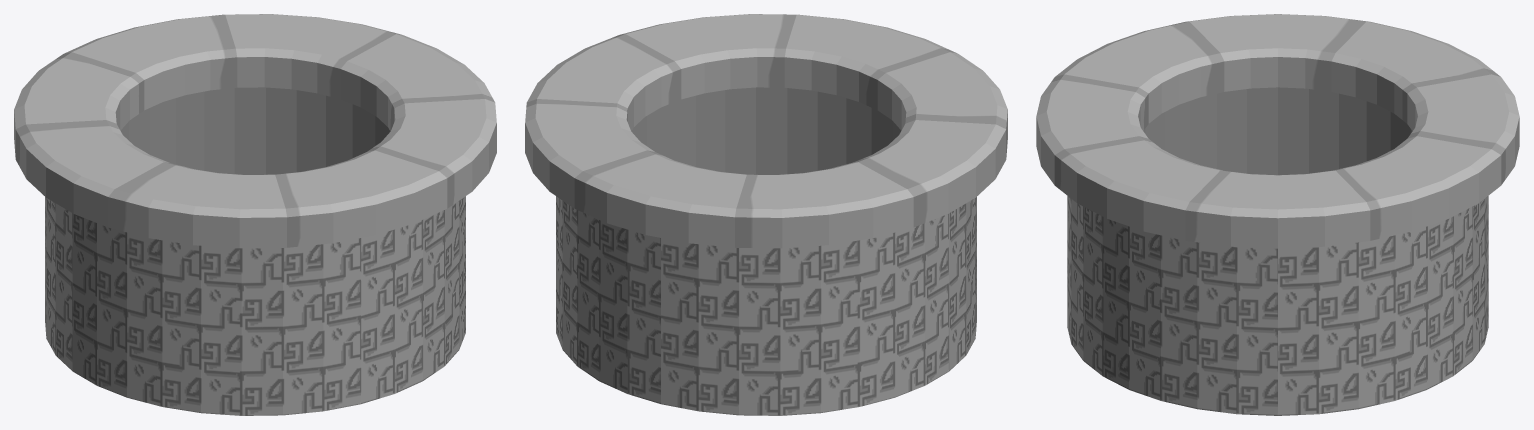
File: BrickWall Cylinder.fbx
The picture shows the model from 3 angles, left to right: view 1: azimuth 30°, elevation 25°; view 2: azimuth 150°, elevation 25°; view 3: azimuth 270°, elevation 25°; orthographic projection.
Parts seen in each view (by area): view 1: Cylinder; view 2: Cylinder; view 3: Cylinder.
Part boxes in pixels (bbox=[...]): Cylinder: bbox=[14, 14, 496, 415]; Cylinder: bbox=[525, 14, 1007, 415]; Cylinder: bbox=[1036, 14, 1519, 415].
Bounding box in the file's own units: 498 × 244 × 498.
